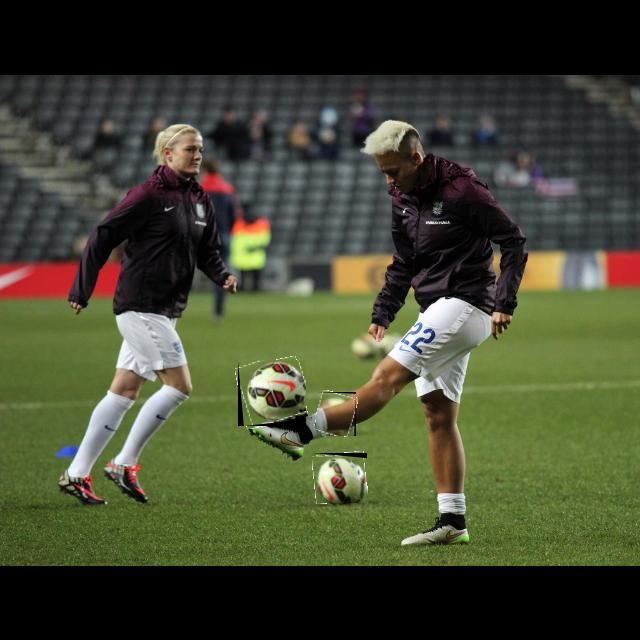Football: (238, 360, 306, 426), (313, 453, 367, 503), (316, 392, 356, 436)
